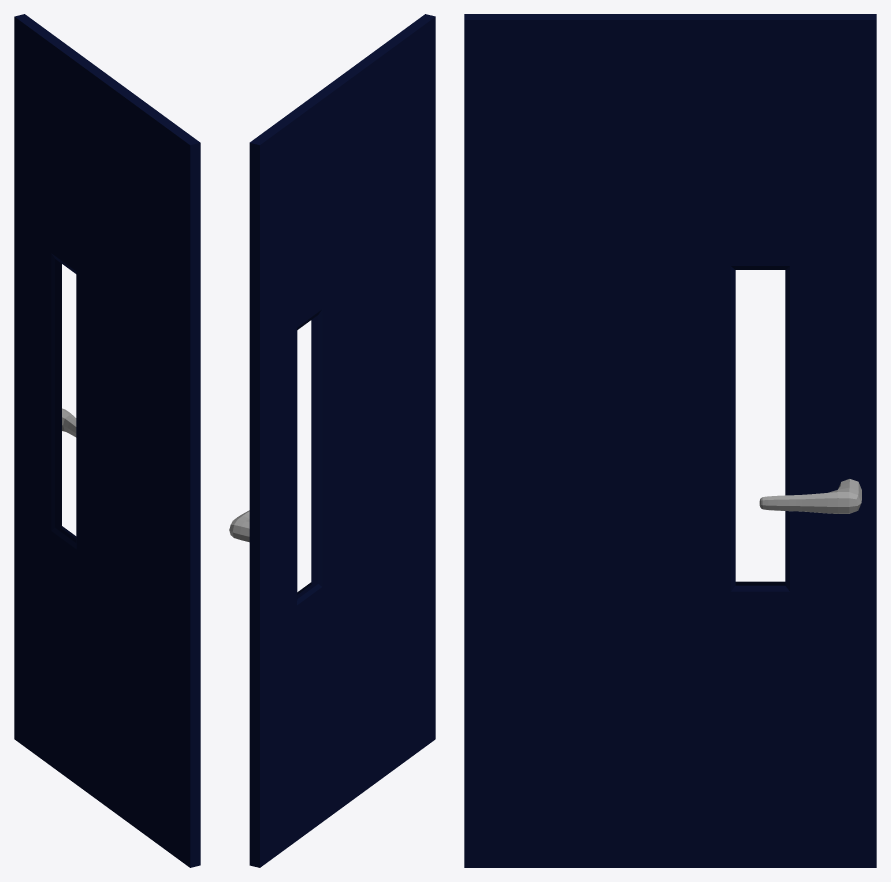
Rendered from singleDoor-metal.glb.
3 renders of one model, left to right at view 1: azimuth 30°, elevation 25°; view 2: azimuth 150°, elevation 25°; view 3: azimuth 270°, elevation 25°, orthographic. The views are drawn at different scales.
Parts seen in each view (by area): view 1: Cube.071; view 2: Cube.071; view 3: Cube.071.
Boxes of the visible parts, left/top/right/bottom form: Cube.071: left=14, top=14, right=200, bottom=867; Cube.071: left=229, top=14, right=435, bottom=867; Cube.071: left=464, top=14, right=876, bottom=867.
Bounding box in the file's own units: 0.1459 × 2.47 × 1.09.
